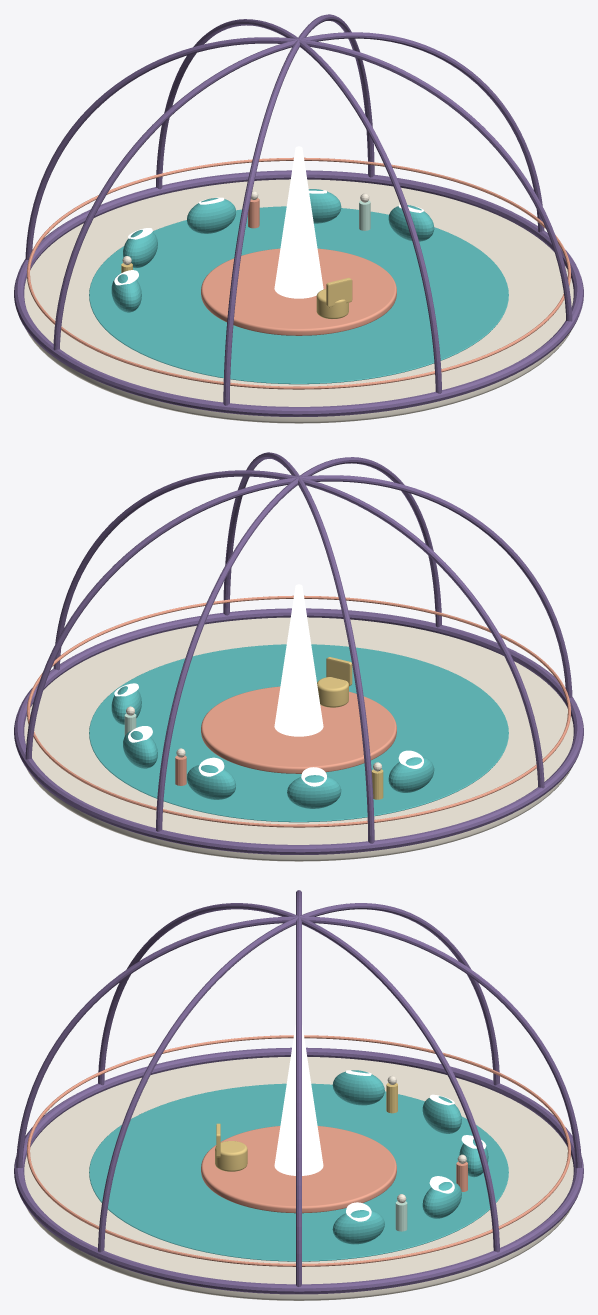
Rendered from bridge_spike.glb.
3 views of the same model, one above another, from view 1: azimuth 30°, elevation 25°; view 2: azimuth 150°, elevation 25°; view 3: azimuth 270°, elevation 25° (orthographic).
Parts seen in each view (by area): view 1: deck_inlay, deck, dome_base_ring, captain_ring, dome_rib_3, dome_rib_0, spire_tip, rail, dome_rib_2, dome_rib_1, console_2, console_0 (+5 smaller); view 2: deck, deck_inlay, dome_base_ring, captain_ring, dome_rib_1, dome_rib_0, spire_tip, rail, dome_rib_2, dome_rib_3, console_3, console_2 (+5 smaller); view 3: deck, deck_inlay, dome_base_ring, captain_ring, dome_rib_2, dome_rib_1, dome_rib_3, rail, spire_tip, dome_rib_0, console_4, console_0 (+4 smaller).
Boxes of the visible parts, x1,y1,x2,y2 form: deck_inlay: (89,206,508,384); deck: (24,179,573,423); dome_base_ring: (14,170,583,416); captain_ring: (201,248,396,335); dome_rib_3: (25,37,572,321); dome_rib_0: (53,32,544,350); spire_tip: (274,146,323,298); rail: (27,157,570,389); dome_rib_2: (156,19,441,393); dome_rib_1: (223,14,374,405); console_2: (187,198,235,233); console_0: (388,205,434,241); deck: (24,617,573,861); deck_inlay: (89,644,508,822); dome_base_ring: (14,608,583,854); captain_ring: (201,686,396,773); dome_rib_1: (25,475,572,759); dome_rib_0: (53,470,544,788); spire_tip: (274,584,323,736); rail: (27,595,570,827); dome_rib_2: (156,457,441,831); dome_rib_3: (223,452,374,843); console_3: (287,775,341,808); console_2: (187,765,235,799); deck: (24,1057,573,1300); deck_inlay: (89,1083,508,1261); dome_base_ring: (14,1047,583,1294); captain_ring: (201,1126,396,1213); dome_rib_2: (16,916,581,1167); dome_rib_1: (98,903,499,1252); dome_rib_3: (98,903,499,1252); rail: (27,1035,570,1266); spire_tip: (274,1025,323,1175); dome_rib_0: (296,890,301,1286); console_4: (332,1070,384,1105); console_0: (332,1210,384,1244).
Bounding box in the file's own units: 24.44 × 12.64 × 24.44.
